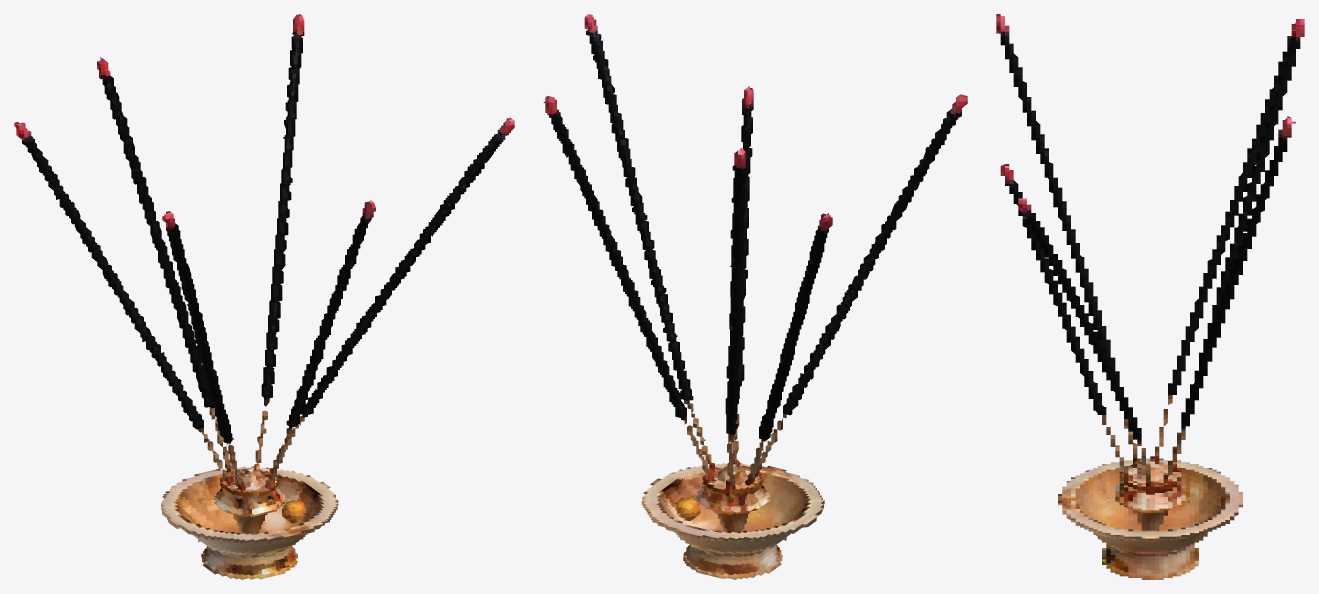
File: incense.glb
3 renders of one model, left to right at view 1: azimuth 30°, elevation 25°; view 2: azimuth 150°, elevation 25°; view 3: azimuth 270°, elevation 25°, orthographic. The views are drawn at different scales.
Visible parts, largest first — view 1: tripo_node_680111e5-b387-42b1-9501-18eb4e80363e; view 2: tripo_node_680111e5-b387-42b1-9501-18eb4e80363e; view 3: tripo_node_680111e5-b387-42b1-9501-18eb4e80363e.
Part boxes in pixels (x1=…): tripo_node_680111e5-b387-42b1-9501-18eb4e80363e: x1=14, y1=14, x2=514, y2=579; tripo_node_680111e5-b387-42b1-9501-18eb4e80363e: x1=543, y1=14, x2=967, y2=579; tripo_node_680111e5-b387-42b1-9501-18eb4e80363e: x1=996, y1=14, x2=1304, y2=579.
Bounding box in the file's own units: 0.7991 × 0.9793 × 0.5484.
1 material, 1 textured.
